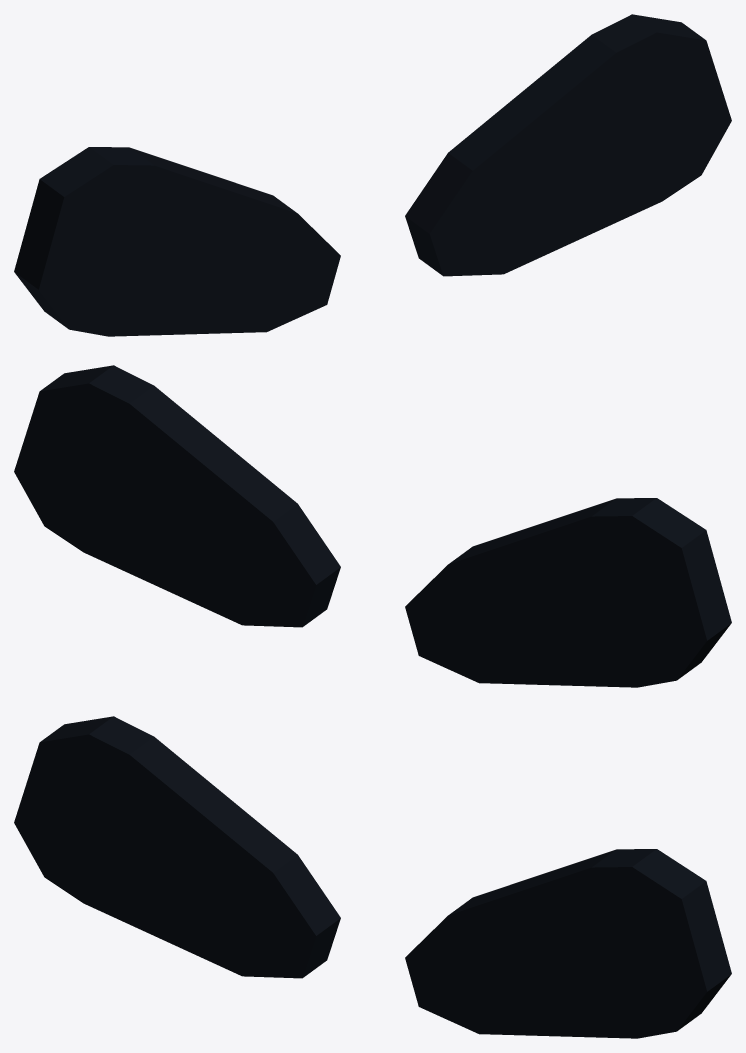
The model's file is bigeyebrows.fbx.
3 renders of one model, top to bottom at view 1: azimuth 30°, elevation 25°; view 2: azimuth 150°, elevation 25°; view 3: azimuth 330°, elevation 25°, orthographic.
Visible parts, largest first — view 1: bigeyebrows; view 2: bigeyebrows; view 3: bigeyebrows.
Part boxes in pixels (x1,y1,x2,y2): bigeyebrows: (14, 14, 731, 336); bigeyebrows: (14, 365, 731, 687); bigeyebrows: (14, 716, 731, 1038).
Bounding box in the file's own units: 18.85 × 5.32 × 1.17.
